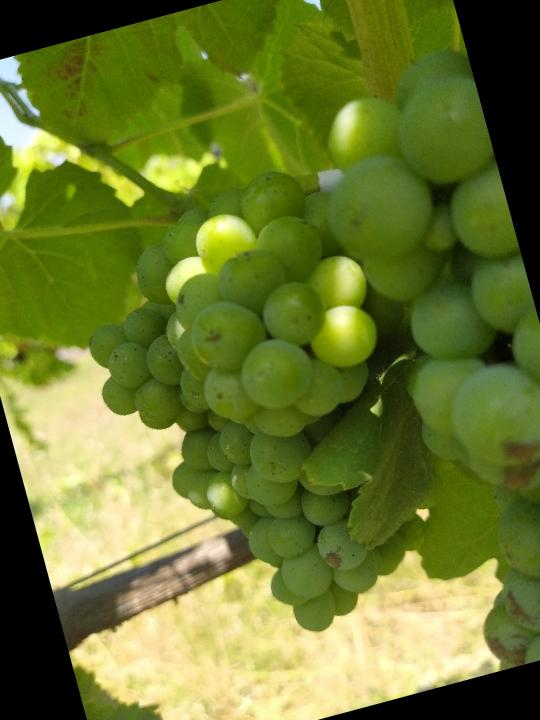grape: (54, 156, 442, 674)
